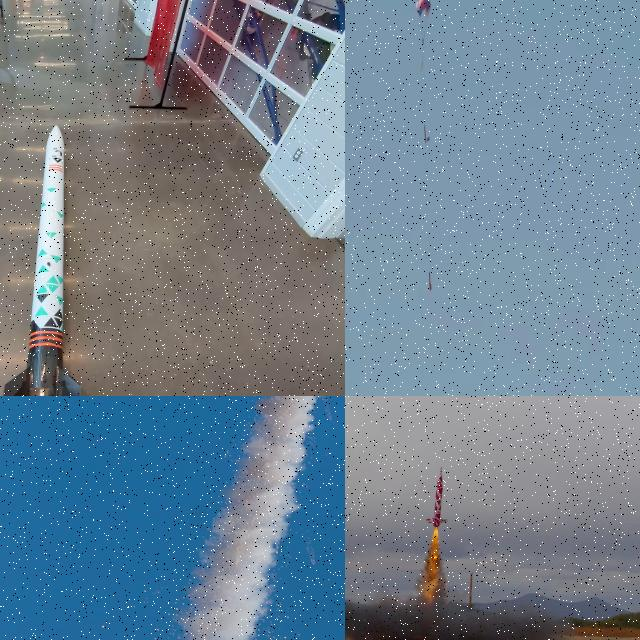Rocket: (3, 125, 82, 396), (425, 466, 449, 528), (429, 271, 432, 291)
